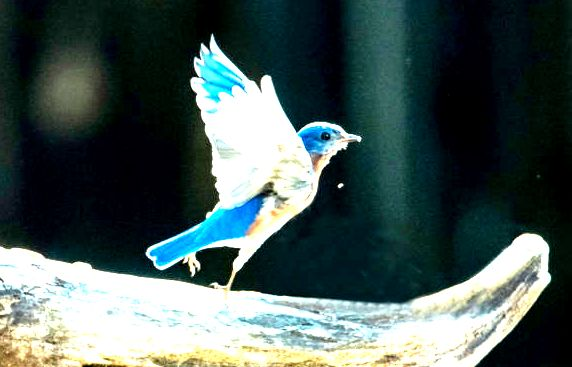Bird: (139, 30, 363, 293)
